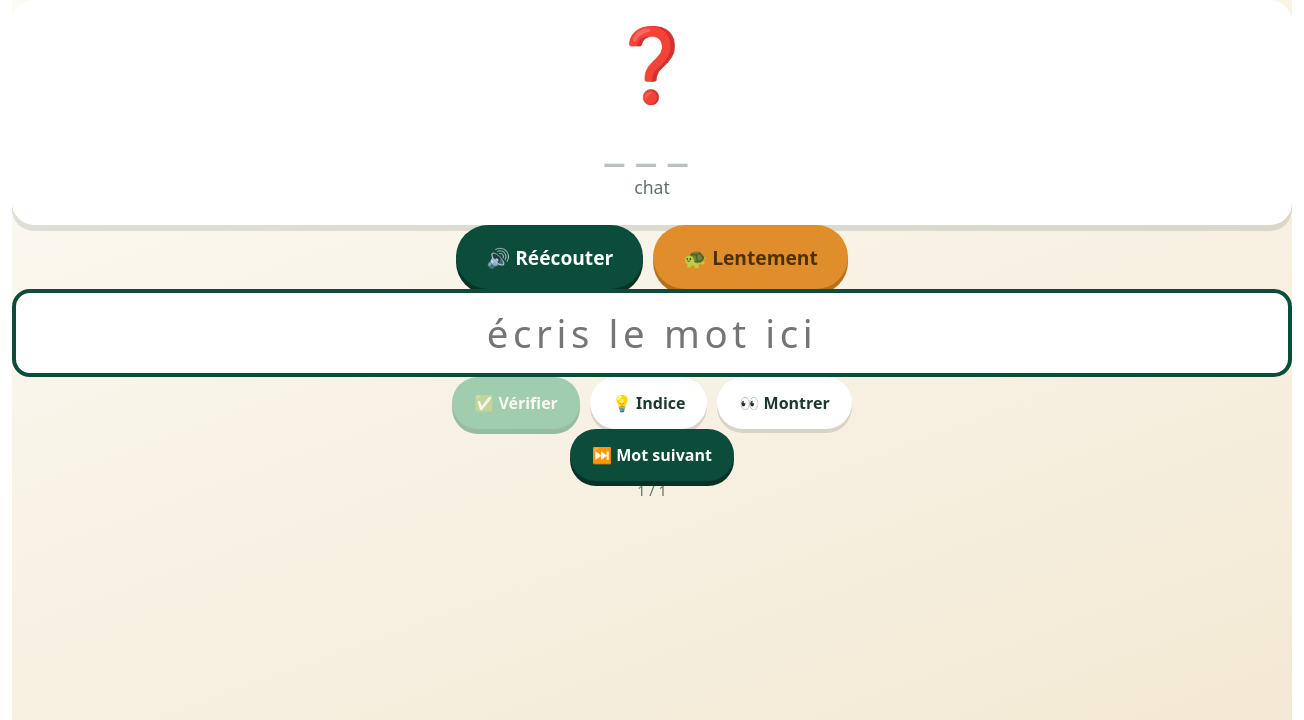
DictationScreen › congratulates a word written correctly
In the field labelled "écris le mot ici": (652, 333) [12,289,1292,377], type "cat"
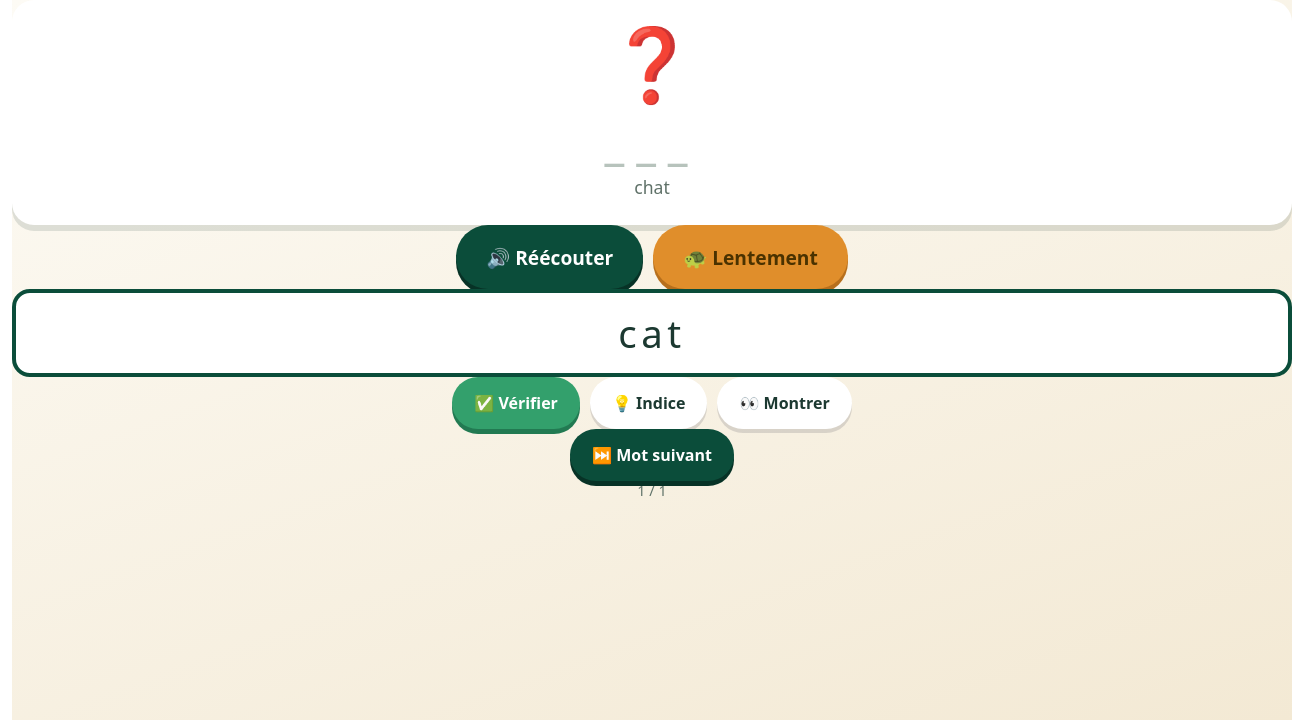
Click the button "✅ Vérifier": (516, 403) [452,377,580,429]
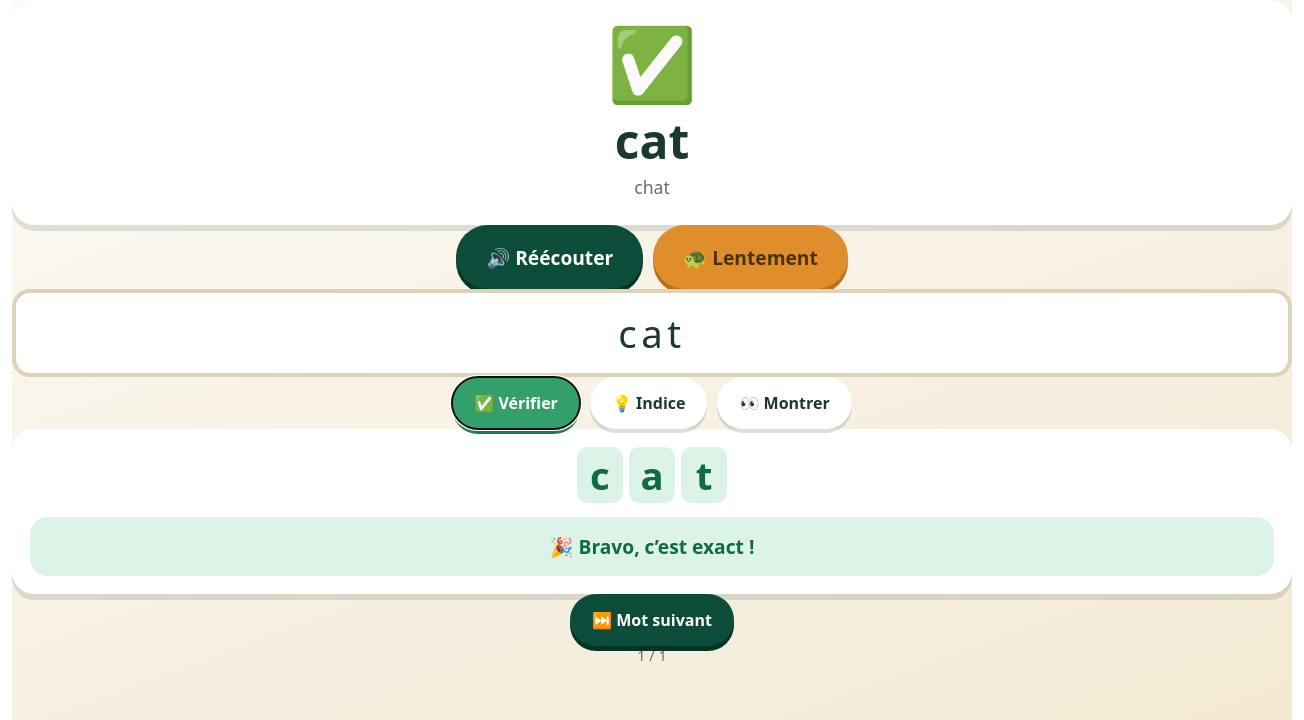
Result: the text "🎉 Bravo, c’est exact !" is shown at [30,517,1274,576]
